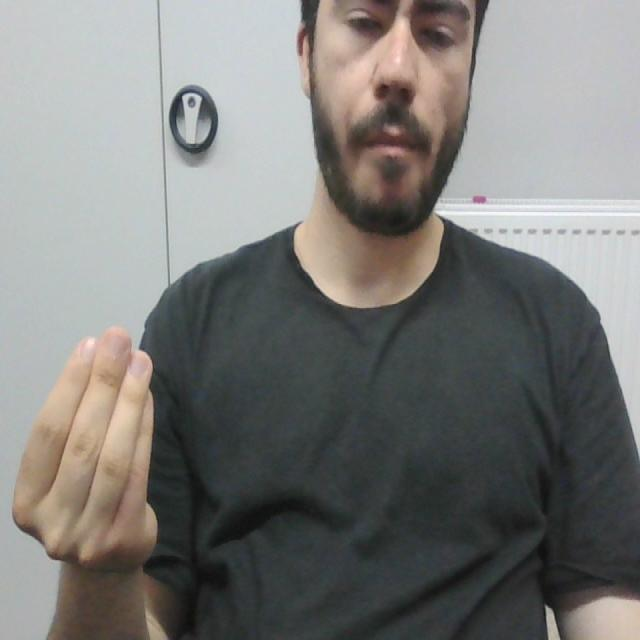iyi: (6, 322, 162, 561)
